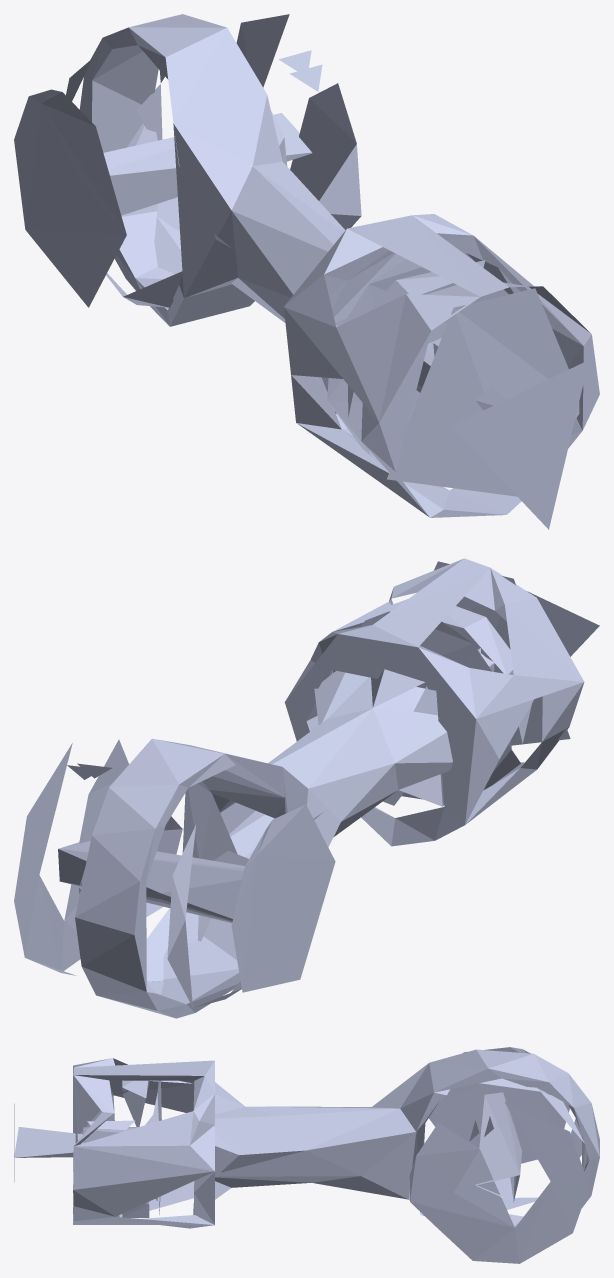
Rendered from agvl.SLDASM_ccrc9_visual_vis_1.dae.
3 views of the same model, one above another, from view 1: azimuth 30°, elevation 25°; view 2: azimuth 150°, elevation 25°; view 3: azimuth 270°, elevation 25° (orthographic). The views are drawn at different scales.
Parts seen in each view (by area): view 1: node; view 2: node; view 3: node.
Boxes of the visible parts, x1,y1,x2,y2 form: node: [14, 14, 599, 529]; node: [14, 558, 599, 1018]; node: [14, 1047, 599, 1263].
Size of the model in its own units: 0.0753 by 0.0786 by 0.2308.
